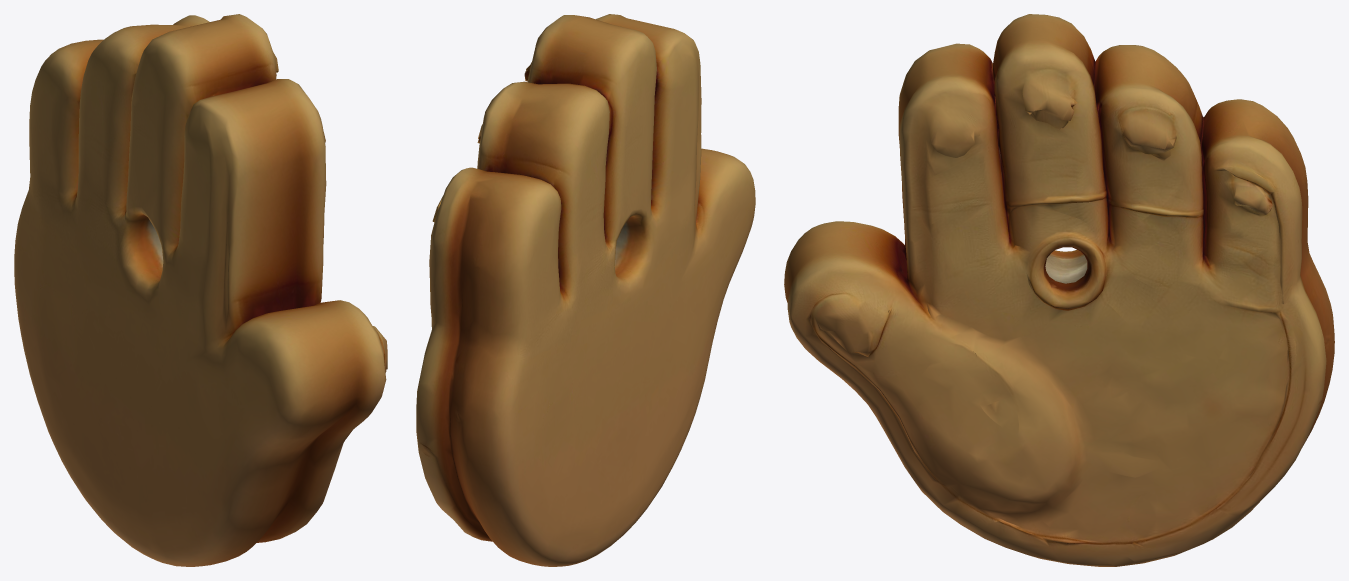
Rendered from lucky_knot.glb.
3 views of the same model, side by side, from view 1: azimuth 30°, elevation 25°; view 2: azimuth 150°, elevation 25°; view 3: azimuth 270°, elevation 25° (orthographic). The views are drawn at different scales.
Parts seen in each view (by area): view 1: tripo_node_bbe243ab-2943-40d4-a6b0-74bf4f3cf317; view 2: tripo_node_bbe243ab-2943-40d4-a6b0-74bf4f3cf317; view 3: tripo_node_bbe243ab-2943-40d4-a6b0-74bf4f3cf317.
Part boxes in pixels (x1,y1,x2,y2): tripo_node_bbe243ab-2943-40d4-a6b0-74bf4f3cf317: (14,14,387,566); tripo_node_bbe243ab-2943-40d4-a6b0-74bf4f3cf317: (416,14,755,566); tripo_node_bbe243ab-2943-40d4-a6b0-74bf4f3cf317: (784,14,1334,566).
Bounding box in the file's own units: 0.2524 × 0.9799 × 0.9334.
1 material, 1 textured.
